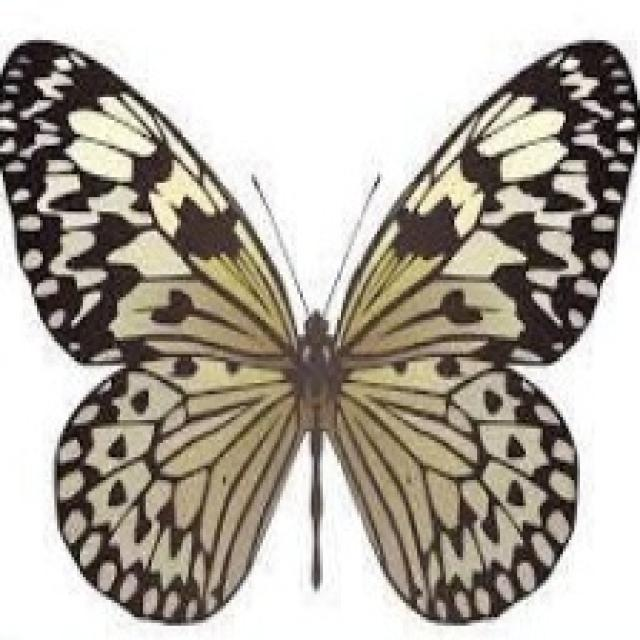butterfly: (0, 31, 637, 626)
